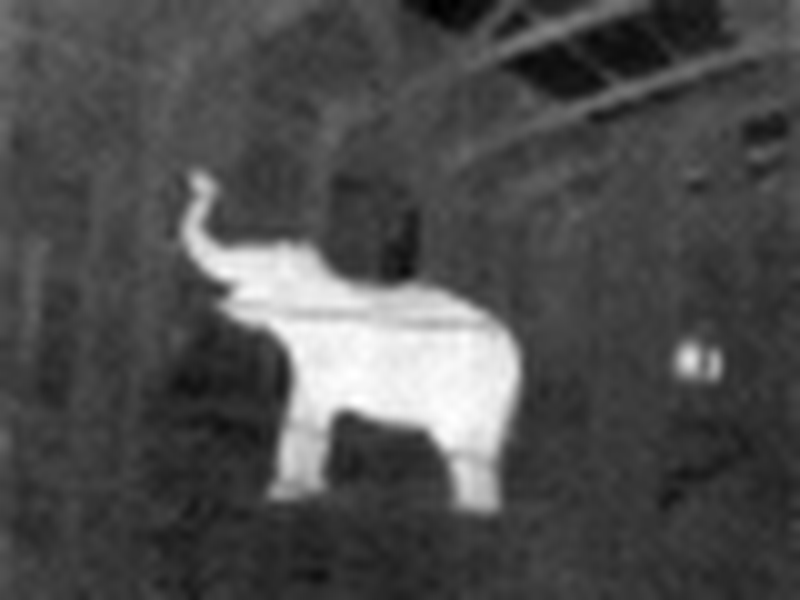elephant: (184, 167, 520, 524)
